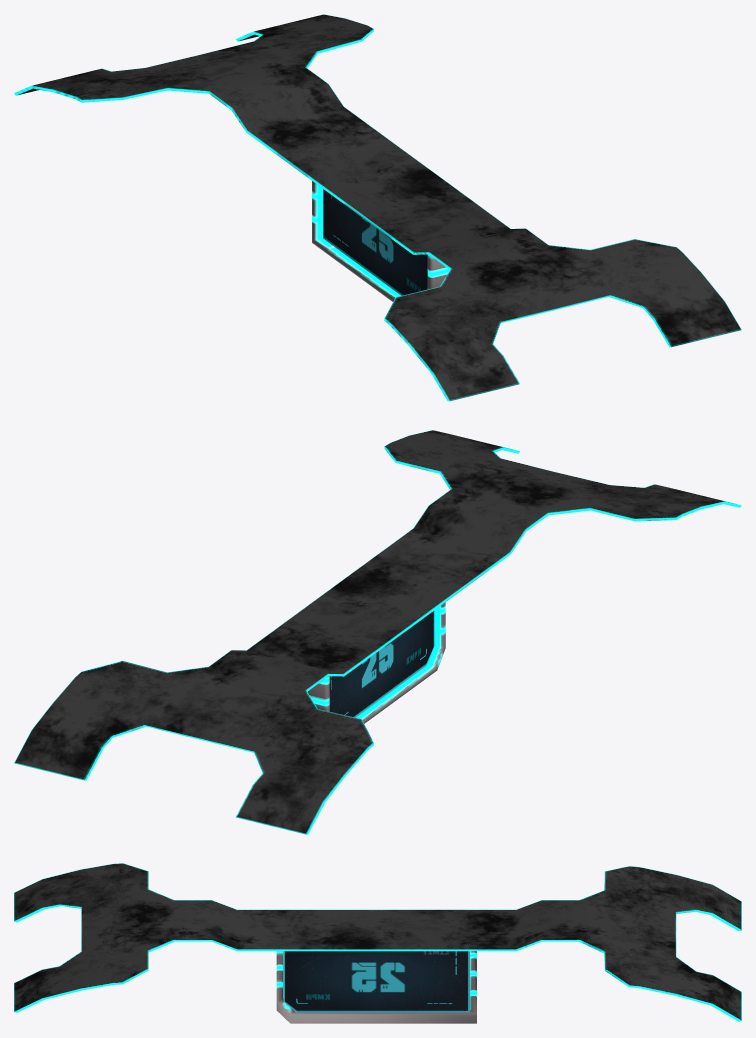
File: Speed screen 1.fbx
The picture shows the model from 3 angles, top to bottom: view 1: azimuth 30°, elevation 25°; view 2: azimuth 150°, elevation 25°; view 3: azimuth 270°, elevation 25°; orthographic projection. The views are drawn at different scales.
Parts seen in each view (by area): view 1: model_129.003; view 2: model_129.003; view 3: model_129.003.
Part boxes in pixels (x1,y1,x2,y2): model_129.003: [14, 14, 741, 401]; model_129.003: [14, 430, 741, 834]; model_129.003: [14, 863, 741, 1023].
Size of the model in its own units: 1726 by 660 by 4453.
Materials: 1 (1 with a texture image).
